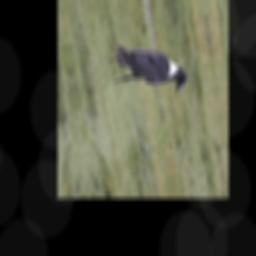Crow: (108, 35, 189, 99)
